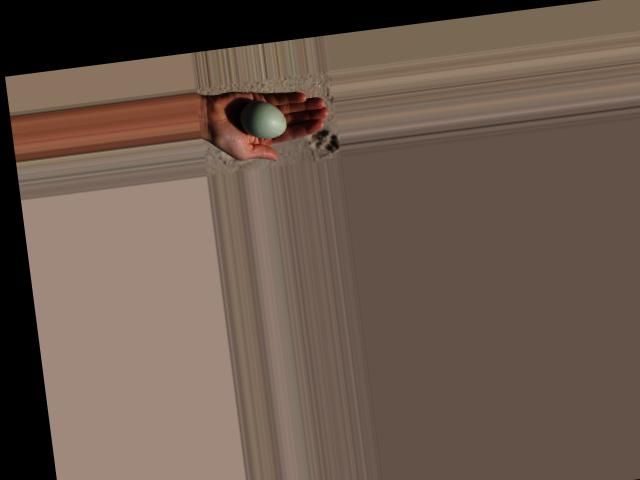egg: (239, 97, 289, 140)
